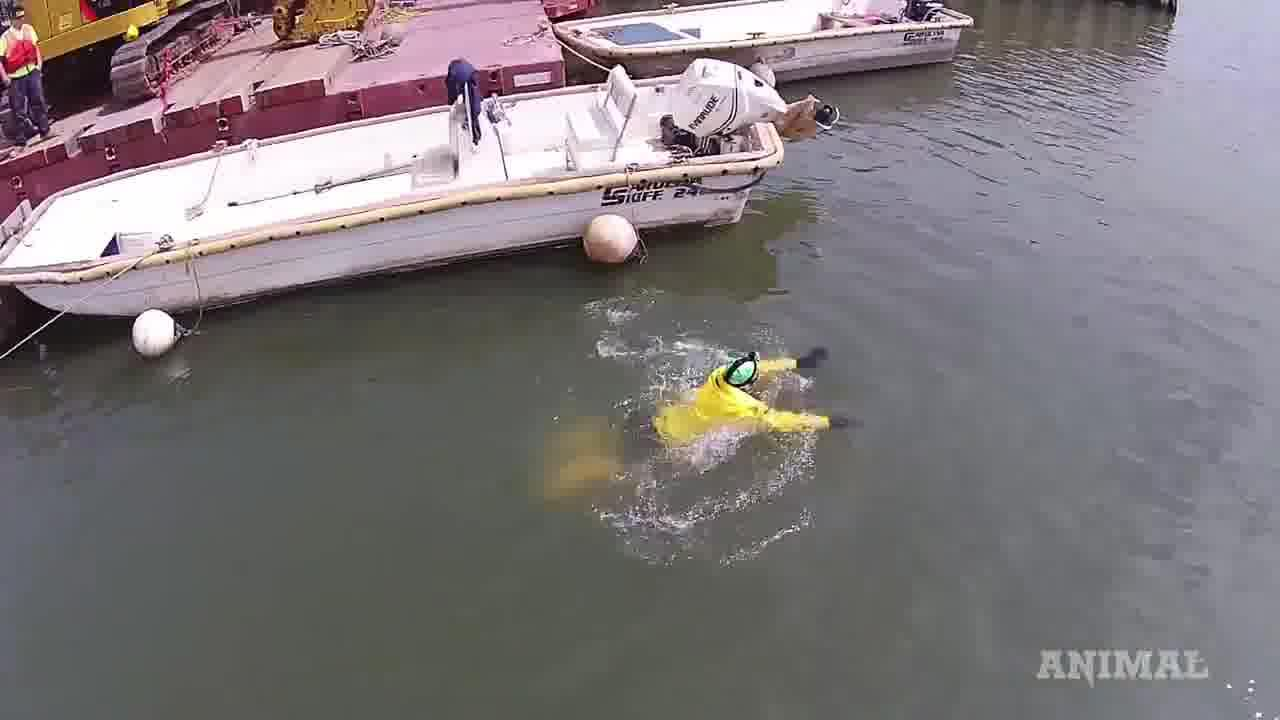swimmer: (612, 337, 844, 476)
